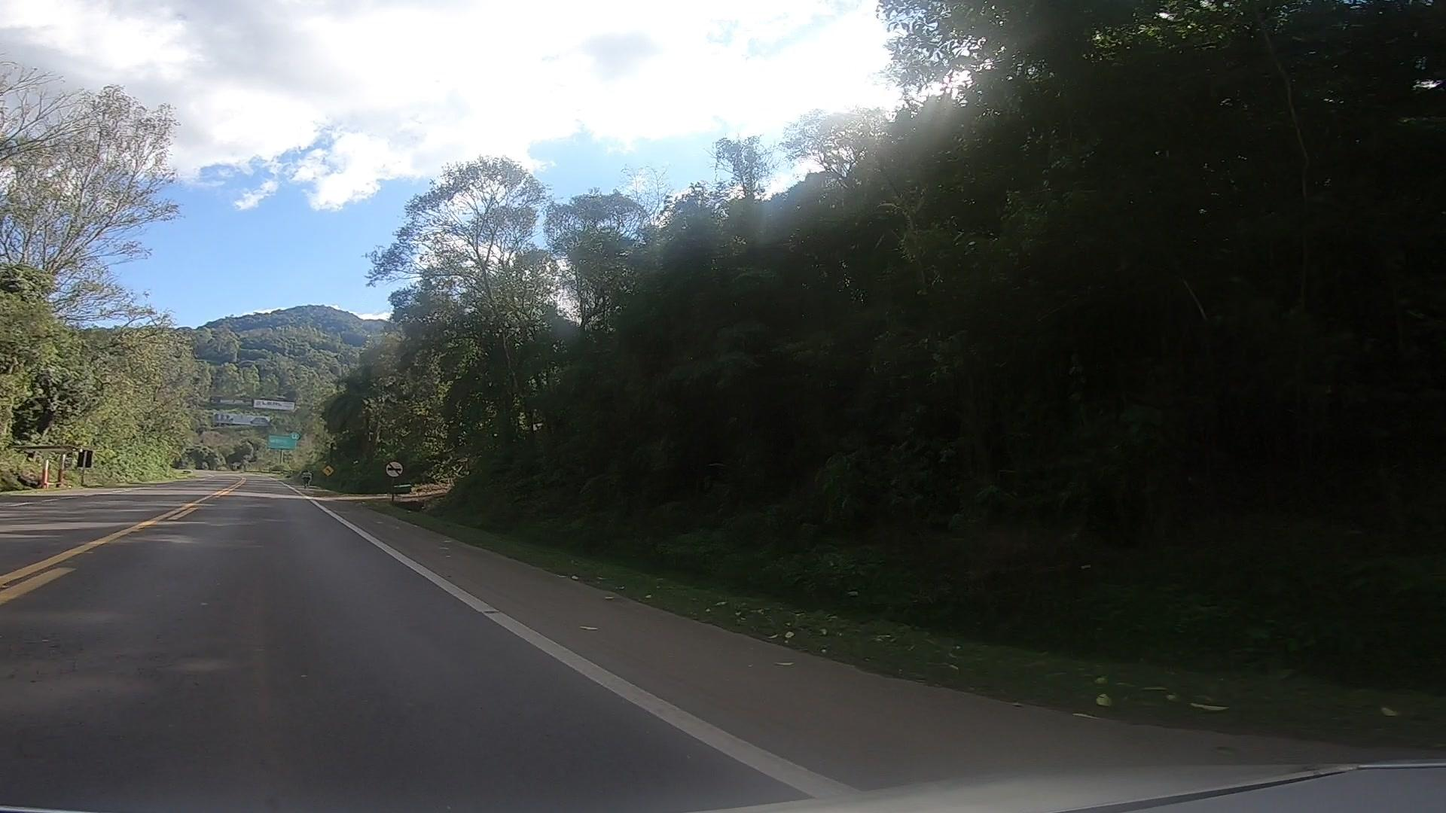R-7: (383, 459, 407, 481)
